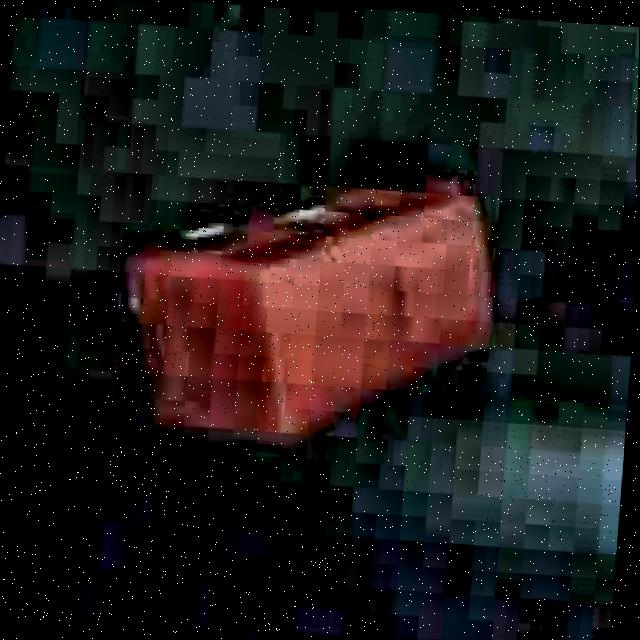bus: (107, 142, 524, 456)
